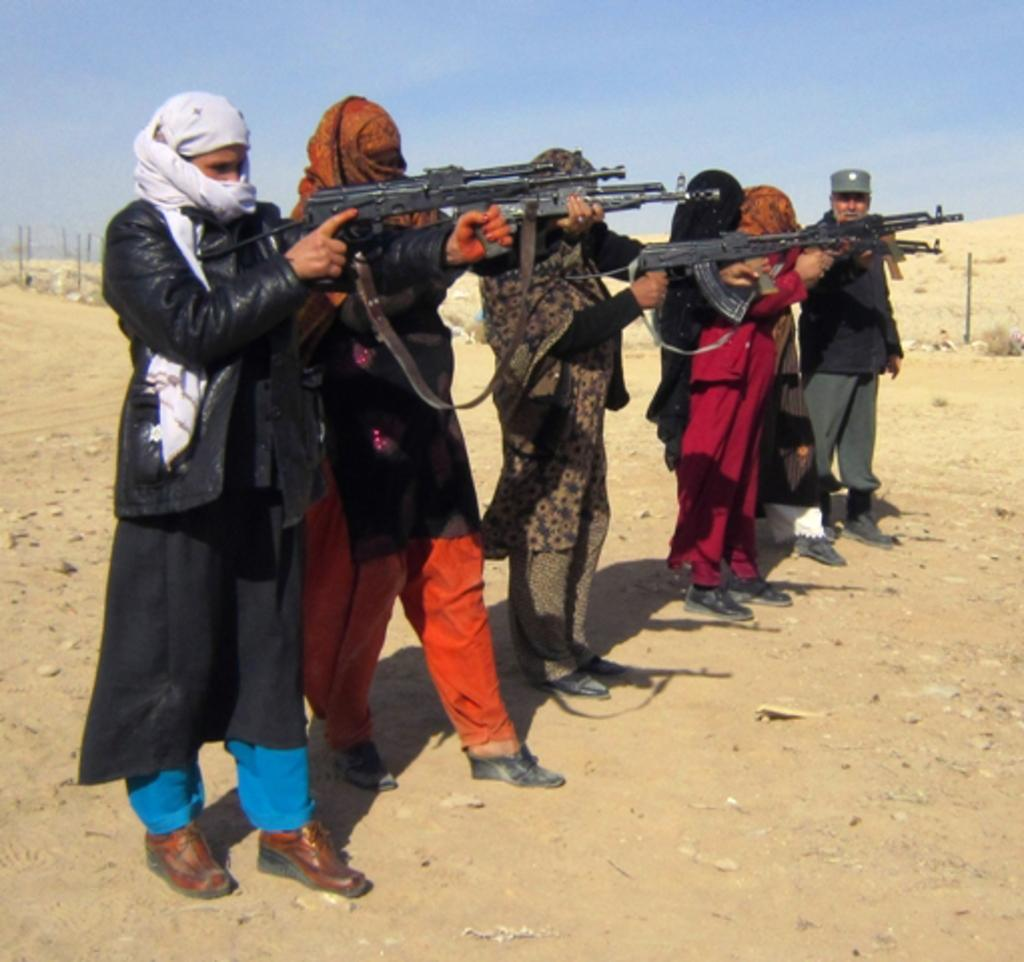no_helmet: (310, 104, 432, 221), (136, 119, 262, 206), (656, 140, 744, 254), (818, 172, 904, 250)
none: (82, 232, 347, 516), (292, 220, 484, 538), (474, 229, 636, 524), (676, 262, 782, 458), (798, 229, 914, 386)
